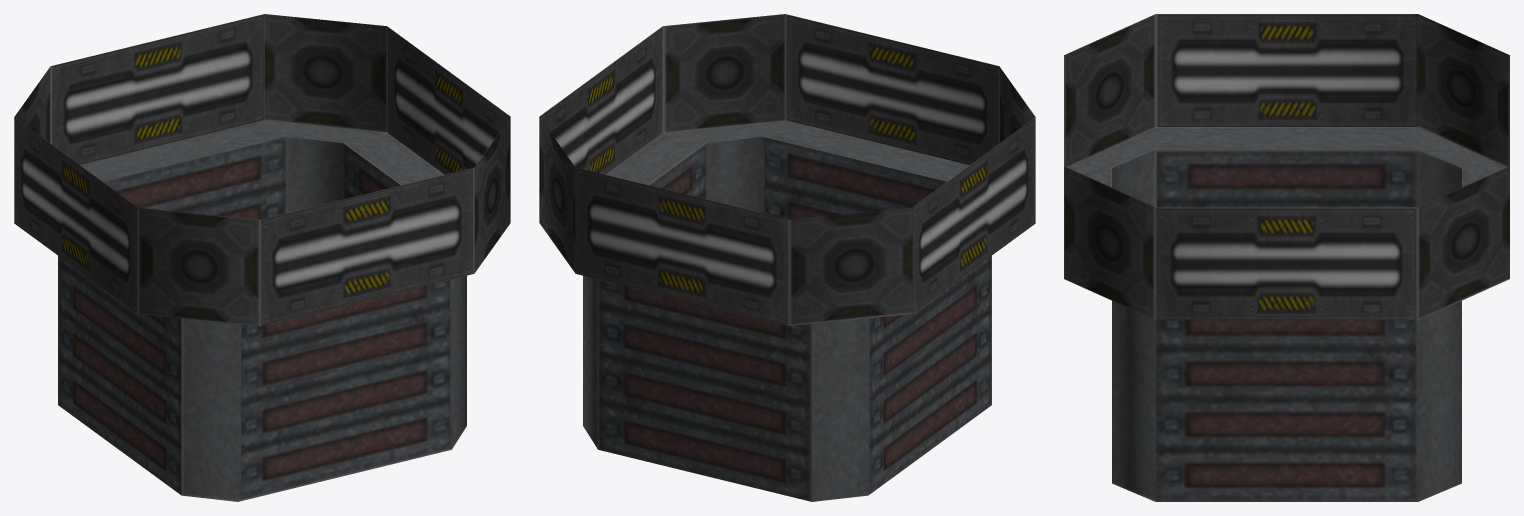
File: CubeBaseFrontColumn5Middle.fbx
3 renders of one model, left to right at view 1: azimuth 30°, elevation 25°; view 2: azimuth 150°, elevation 25°; view 3: azimuth 270°, elevation 25°, orthographic. The views are drawn at different scales.
Visible parts, largest first — view 1: pCube1; view 2: pCube1; view 3: pCube1.
Part boxes in pixels (box(x1,y1,x2,y2)): pCube1: box(14, 14, 510, 501); pCube1: box(539, 14, 1035, 501); pCube1: box(1064, 14, 1509, 501).
Bounding box in the file's own units: 1.31 × 1 × 1.27.
Materials: 1 (1 with a texture image).
